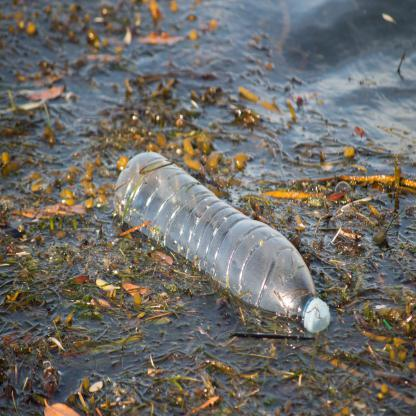Rác: (109, 128, 340, 336)
